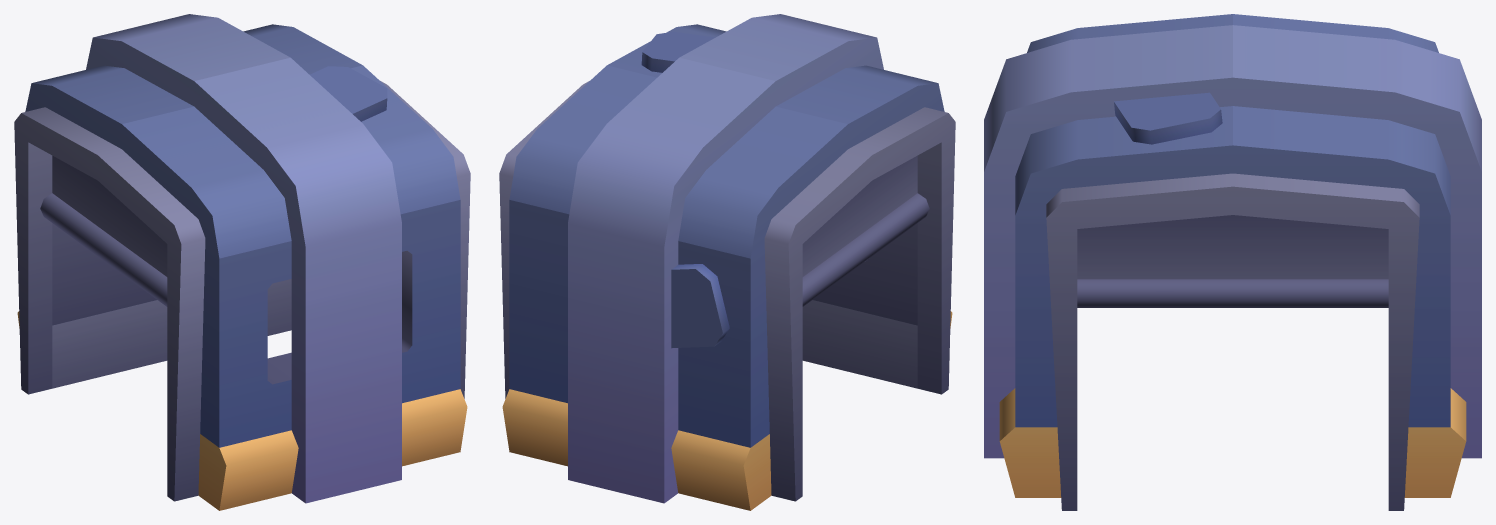
File: rack-fortified.glb
3 renders of one model, left to right at view 1: azimuth 30°, elevation 25°; view 2: azimuth 150°, elevation 25°; view 3: azimuth 270°, elevation 25°, orthographic. The views are drawn at different scales.
Parts seen in each view (by area): view 1: machine-fortified; view 2: machine-fortified; view 3: machine-fortified.
Boxes of the visible parts, x1=… form: machine-fortified: x1=14, y1=14, x2=470, y2=510; machine-fortified: x1=499, y1=14, x2=955, y2=510; machine-fortified: x1=984, y1=14, x2=1481, y2=510.
Bounding box in the file's own units: 1.2 × 1.35 × 1.6.
Materials: 1 (1 with a texture image).
